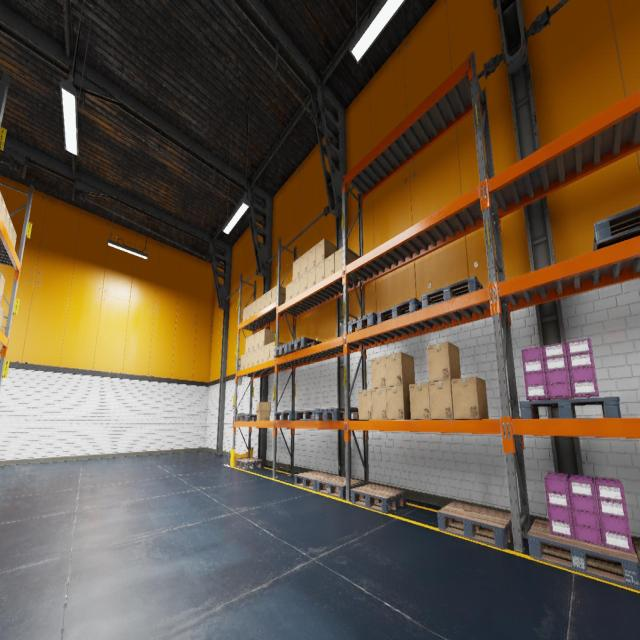box: (452, 376, 488, 419), (427, 341, 461, 382), (385, 352, 415, 387), (428, 380, 454, 419), (386, 385, 411, 420), (409, 382, 431, 420), (334, 247, 358, 277), (316, 238, 336, 265), (372, 388, 387, 420), (371, 356, 386, 388), (358, 388, 372, 419), (259, 328, 276, 348), (255, 402, 271, 421), (270, 342, 286, 361), (272, 285, 286, 303), (325, 253, 334, 278), (308, 245, 316, 271), (292, 257, 300, 281), (316, 260, 324, 283), (308, 266, 316, 288), (299, 272, 307, 294), (0, 198, 7, 223), (300, 251, 307, 276), (292, 277, 300, 297), (0, 274, 5, 305), (285, 282, 292, 302), (4, 209, 10, 232), (8, 219, 14, 241), (264, 344, 270, 362), (258, 346, 264, 364), (0, 306, 4, 330), (254, 331, 259, 350), (245, 336, 250, 354), (266, 289, 271, 307), (249, 350, 254, 367), (261, 293, 266, 310), (12, 228, 16, 249), (240, 354, 245, 370), (251, 300, 256, 316), (254, 348, 258, 366), (250, 334, 254, 352), (0, 190, 3, 212), (245, 352, 249, 368), (256, 297, 260, 313), (247, 303, 251, 319), (243, 306, 247, 322), (0, 272, 1, 279)
pallets: (527, 519, 640, 591), (437, 502, 512, 550), (520, 396, 622, 418), (592, 205, 640, 251), (421, 276, 483, 309), (351, 484, 406, 513), (377, 298, 421, 324), (316, 476, 362, 499), (294, 471, 336, 491), (348, 312, 377, 334), (288, 337, 322, 352), (316, 408, 358, 420), (274, 410, 310, 420), (235, 458, 264, 470), (274, 343, 297, 357), (295, 410, 323, 420), (633, 540, 640, 568), (236, 414, 257, 421)
